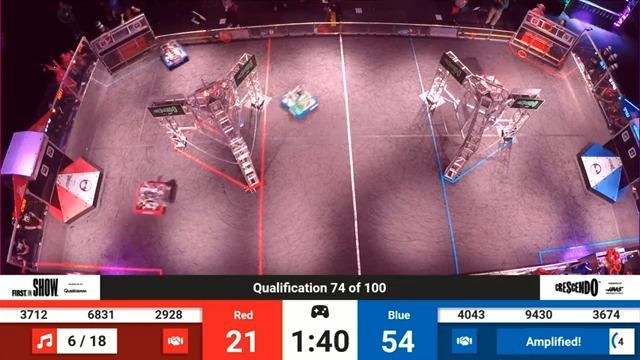robot: (129, 176, 178, 223), (276, 83, 319, 124), (158, 38, 190, 72), (478, 73, 507, 94)
